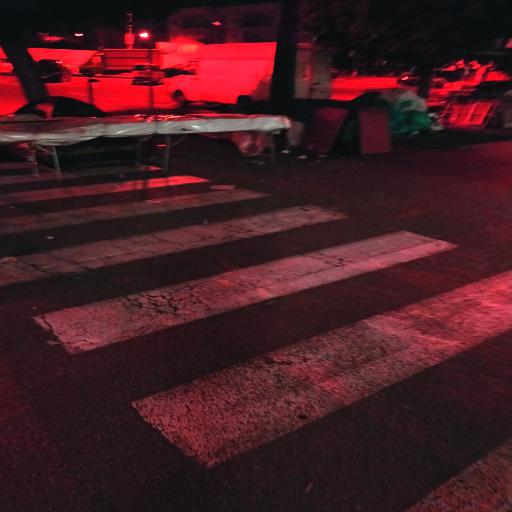crosswalk: (9, 201, 471, 367)
